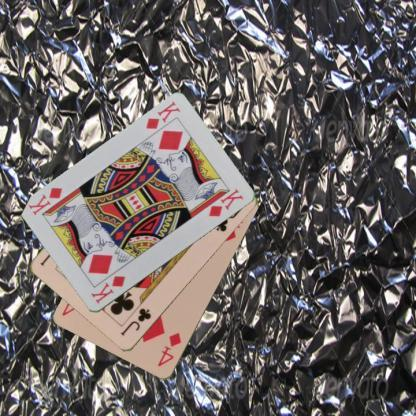4d: (154, 330, 182, 369)
Jc: (118, 306, 152, 338)
Kd: (142, 98, 182, 131), (89, 273, 127, 305)
